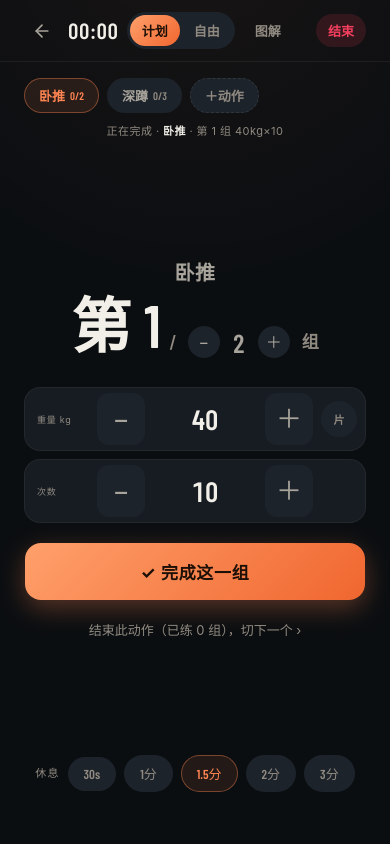
WorkoutPage 动作训练 › 重量/次数大按钮可调，无滑条
The width and height of the screenshot is (390, 844).
Click the button named "重量加2.5": (289, 419) left=265, top=393, right=313, bottom=445
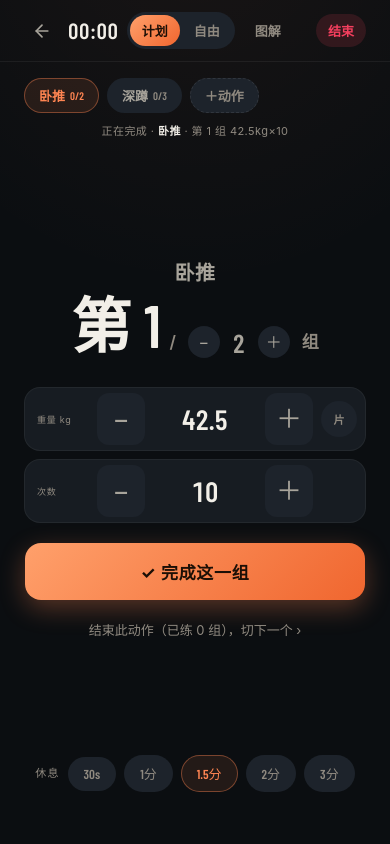
Click the button named "重量加2.5": (289, 419) left=265, top=393, right=313, bottom=445
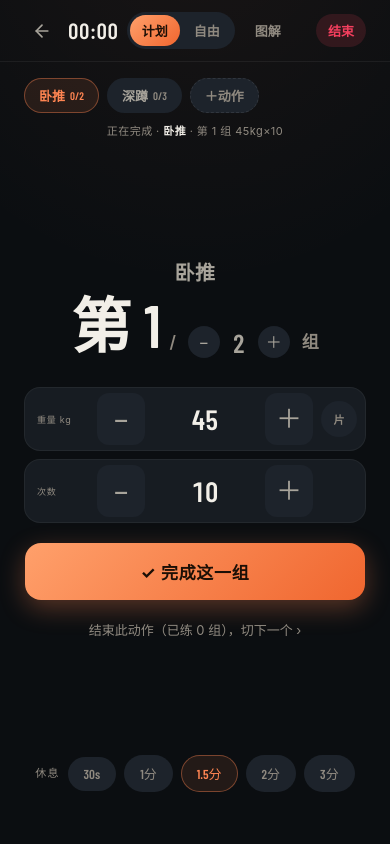
Expected: the button with class "workout__param-value" reads "45", left=169, top=402, right=241, bottom=436
Click the button named "次数减1": (121, 491) left=97, top=465, right=145, bottom=517
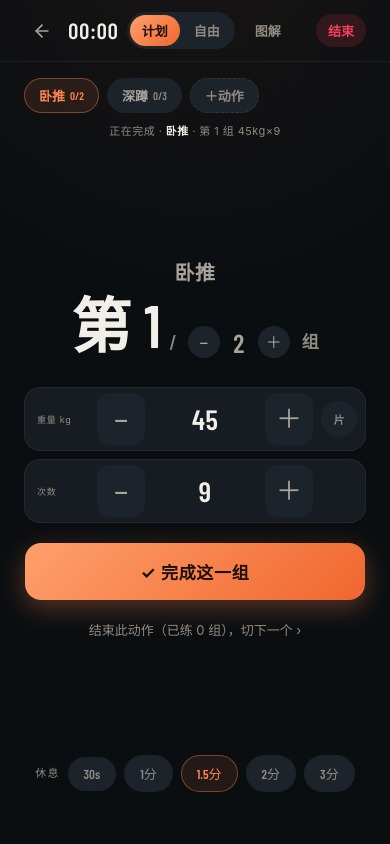
Expected: the button with class "workout__param-value" reads "9", left=169, top=474, right=241, bottom=508
